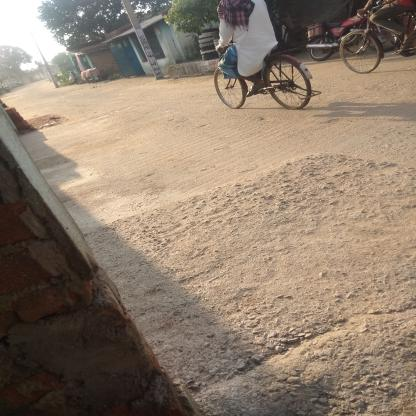bike: (202, 42, 325, 116)
